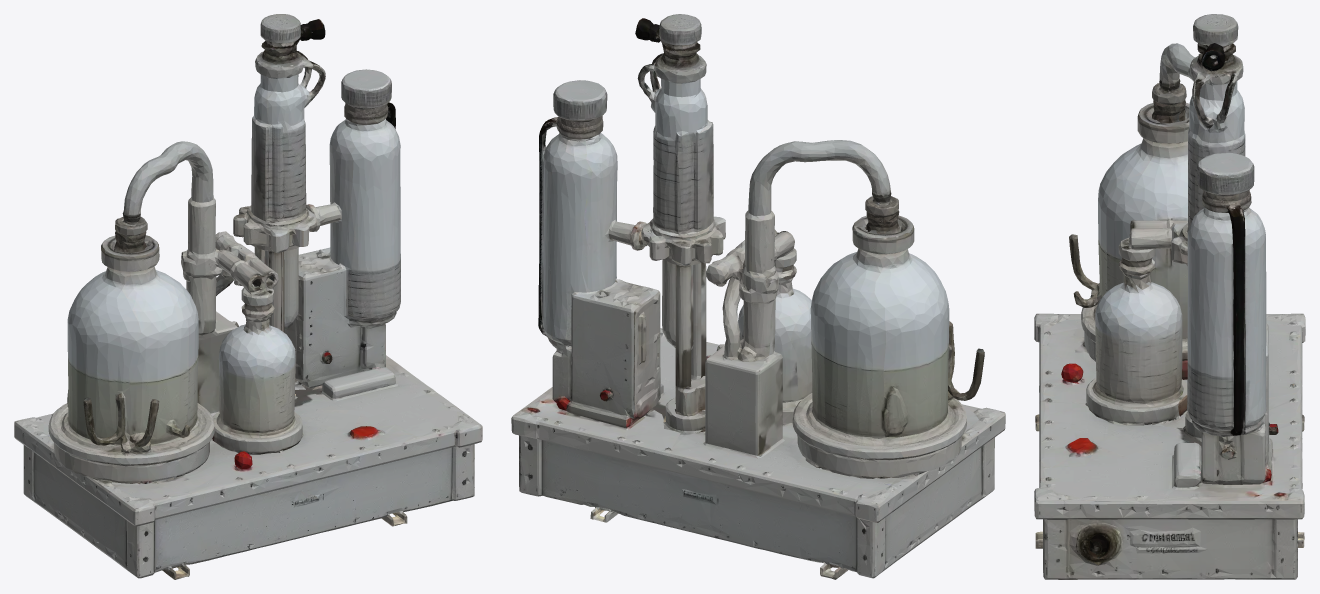
Rendered from head (128).glb.
The picture shows the model from 3 angles, left to right: view 1: azimuth 30°, elevation 25°; view 2: azimuth 150°, elevation 25°; view 3: azimuth 270°, elevation 25°; orthographic projection. The views are drawn at different scales.
Visible parts, largest first — view 1: Hy21_Mesh.obj; view 2: Hy21_Mesh.obj; view 3: Hy21_Mesh.obj.
Part boxes in pixels (left/top/right/bottom): Hy21_Mesh.obj: left=14, top=14, right=482, bottom=579; Hy21_Mesh.obj: left=511, top=14, right=1005, bottom=579; Hy21_Mesh.obj: left=1034, top=14, right=1305, bottom=579.
Size of the model in its own units: 1.66 by 1.96 by 0.9582.
Materials: 1 (1 with a texture image).
